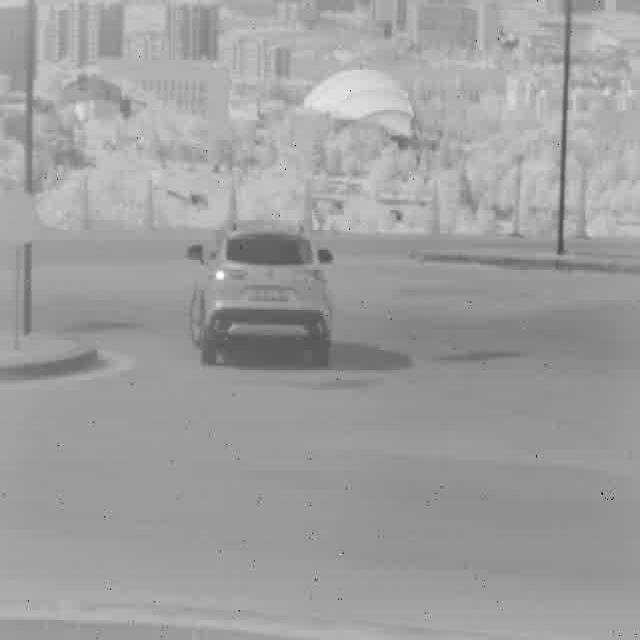Car: (191, 222, 331, 362)
